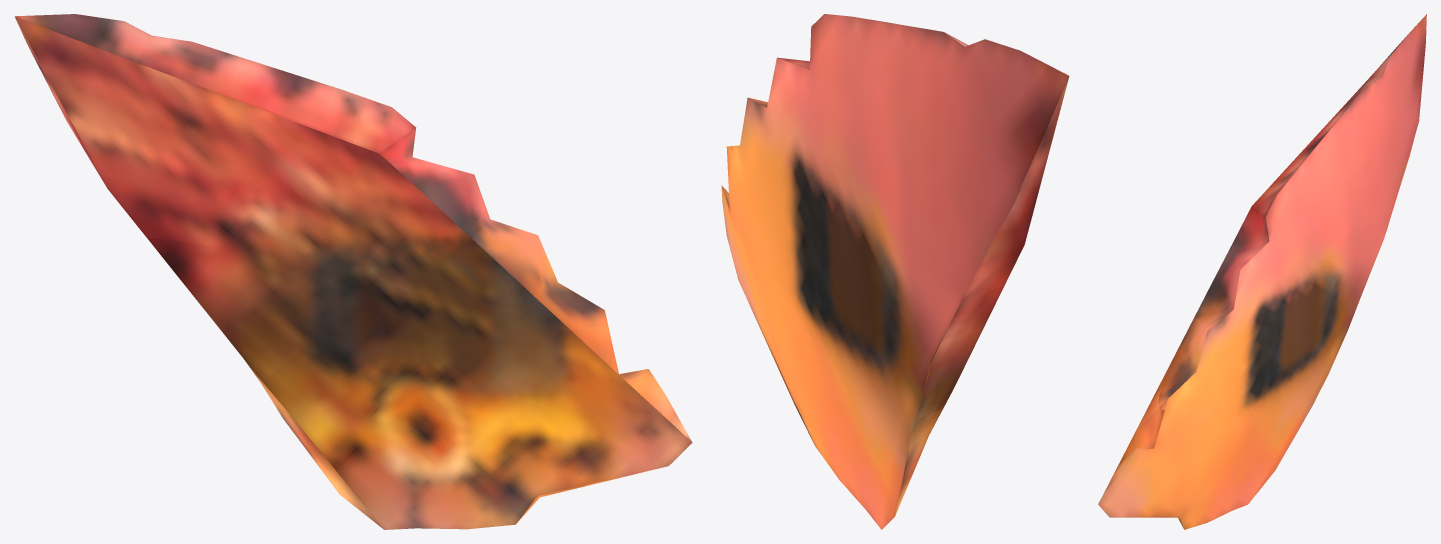
Rendered from Ceramic011.gltf.
3 renders of one model, left to right at view 1: azimuth 30°, elevation 25°; view 2: azimuth 150°, elevation 25°; view 3: azimuth 270°, elevation 25°, orthographic. The views are drawn at different scales.
Visible parts, largest first — view 1: Ceramic011, Ceramic011_002, Ceramic011_003, Ceramic011_001; view 2: Ceramic011, Ceramic011_002, Ceramic011_003, Ceramic011_001; view 3: Ceramic011, Ceramic011_002, Ceramic011_003, Ceramic011_001.
Boxes of the visible parts, x1=… form: Ceramic011: x1=14, y1=14, x2=607, y2=326; Ceramic011_002: x1=367, y1=284, x2=692, y2=527; Ceramic011_003: x1=254, y1=295, x2=486, y2=529; Ceramic011_001: x1=147, y1=237, x2=400, y2=381; Ceramic011: x1=726, y1=14, x2=1069, y2=298; Ceramic011_002: x1=721, y1=162, x2=852, y2=466; Ceramic011_003: x1=829, y1=262, x2=943, y2=529; Ceramic011_001: x1=832, y1=209, x2=1004, y2=418; Ceramic011: x1=1158, y1=14, x2=1426, y2=410; Ceramic011_002: x1=1098, y1=309, x2=1301, y2=529; Ceramic011_003: x1=1198, y1=315, x2=1335, y2=525; Ceramic011_001: x1=1290, y1=226, x2=1387, y2=356.
Bounding box in the file's own units: 0.0922 × 0.0925 × 0.0705.
Materials: 1 (1 with a texture image).
